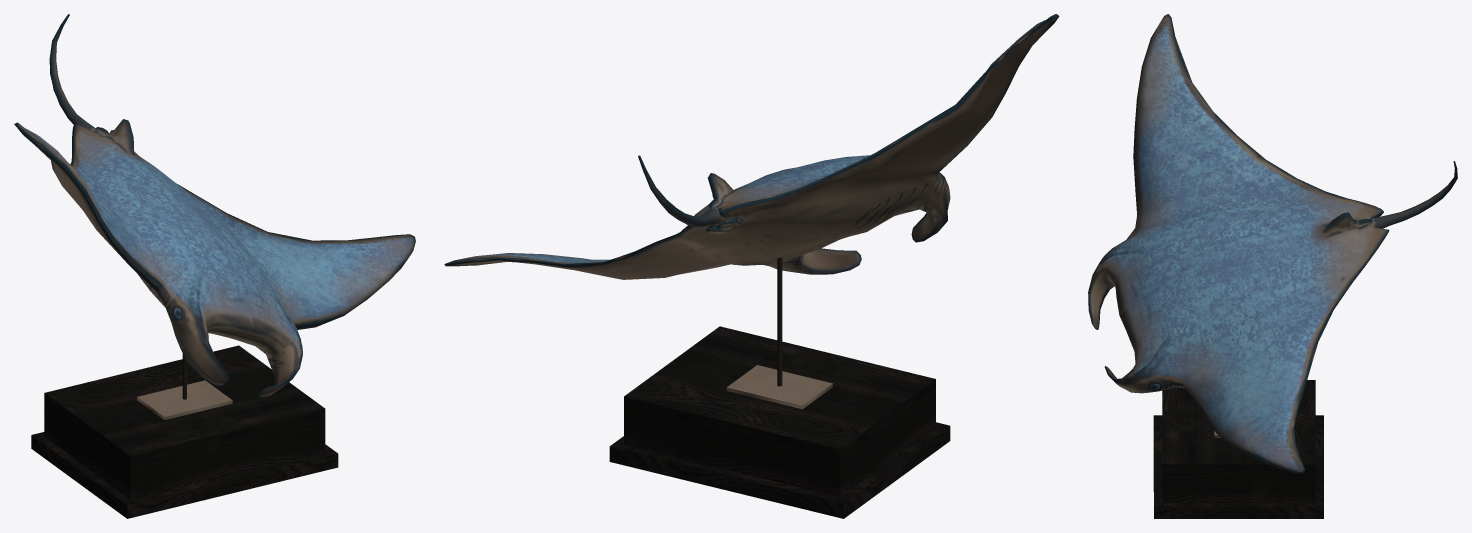
The model's file is bronze-ray.glb.
3 renders of one model, left to right at view 1: azimuth 30°, elevation 25°; view 2: azimuth 150°, elevation 25°; view 3: azimuth 270°, elevation 25°, orthographic. The views are drawn at different scales.
Visible parts, largest first — view 1: bronze_ray_statue; view 2: bronze_ray_statue; view 3: bronze_ray_statue.
Part boxes in pixels (x1=…): bronze_ray_statue: x1=14, y1=14, x2=415, y2=518; bronze_ray_statue: x1=444, y1=14, x2=1059, y2=518; bronze_ray_statue: x1=1088, y1=14, x2=1457, y2=518.
Size of the model in its own units: 0.7075 by 0.5896 by 0.5355.
1 material, 1 textured.
